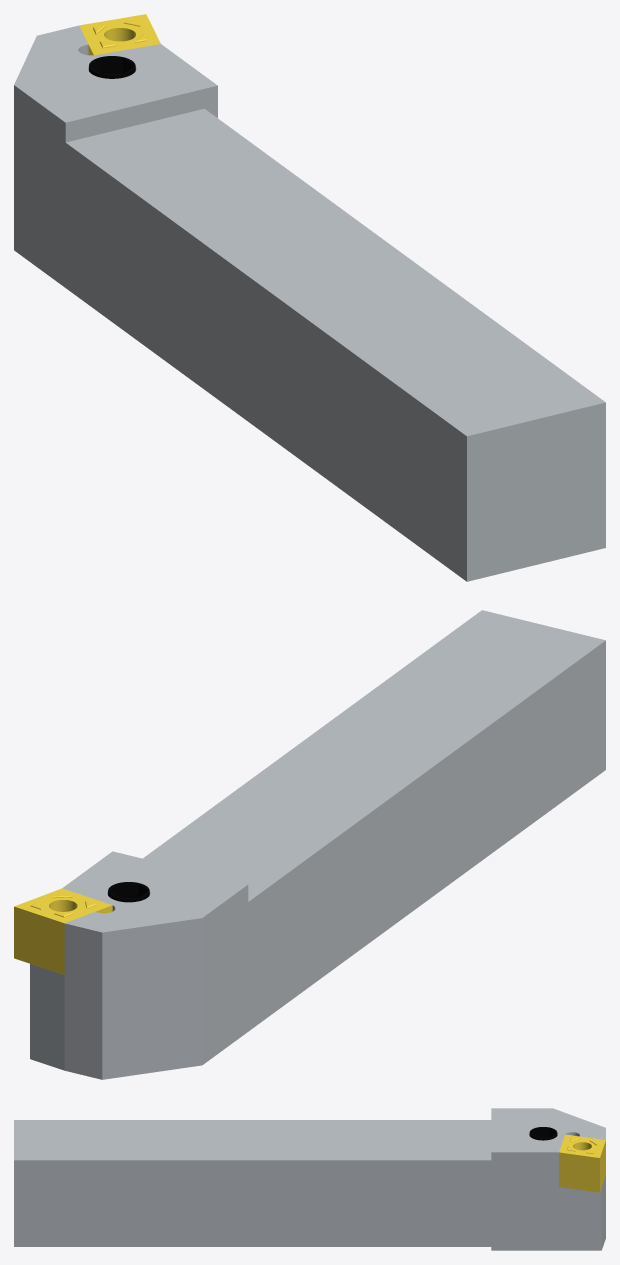
File: Assembly 1.fbx
3 views of the same model, one above another, from view 1: azimuth 30°, elevation 25°; view 2: azimuth 150°, elevation 25°; view 3: azimuth 270°, elevation 25° (orthographic). The views are drawn at different scales.
Parts seen in each view (by area): view 1: imagetostl_mesh0, imagetostl_mesh1, imagetostl_mesh2; view 2: imagetostl_mesh0, imagetostl_mesh1, imagetostl_mesh2; view 3: imagetostl_mesh0, imagetostl_mesh1, imagetostl_mesh2.
Part boxes in pixels (left/top/right/bottom): imagetostl_mesh0: left=14, top=25, right=605, bottom=581; imagetostl_mesh1: left=79, top=14, right=160, bottom=55; imagetostl_mesh2: left=89, top=56, right=135, bottom=78; imagetostl_mesh0: left=30, top=610, right=605, bottom=1079; imagetostl_mesh1: left=14, top=888, right=112, bottom=974; imagetostl_mesh2: left=108, top=882, right=149, bottom=902; imagetostl_mesh0: left=14, top=1108, right=605, bottom=1250; imagetostl_mesh1: left=559, top=1134, right=605, bottom=1192; imagetostl_mesh2: left=529, top=1127, right=557, bottom=1140.
Size of the model in its own units: 618 by 578 by 3100.
